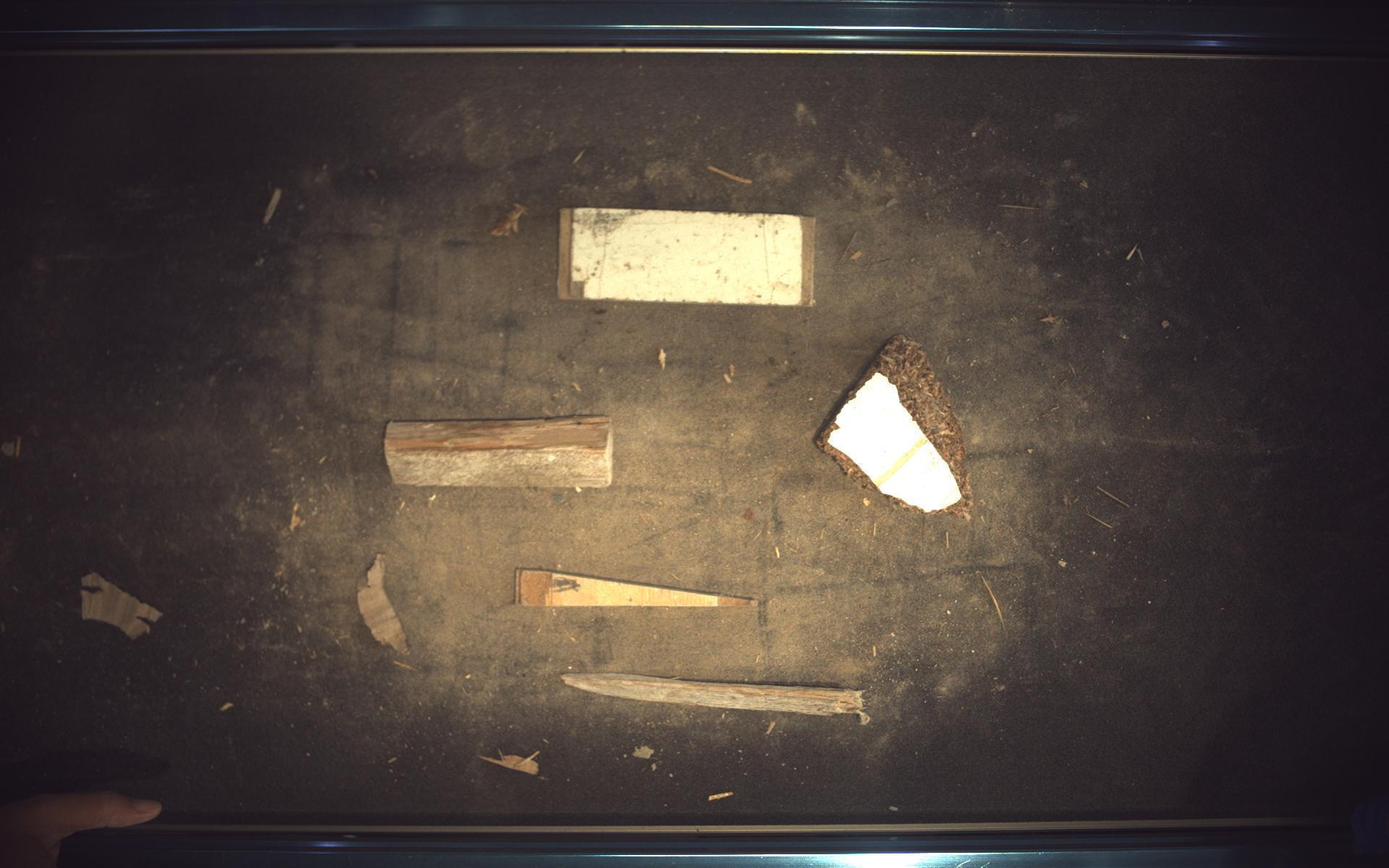wood: (817, 335, 974, 519), (558, 207, 817, 305), (384, 417, 613, 488), (562, 673, 870, 724), (516, 569, 759, 608)
